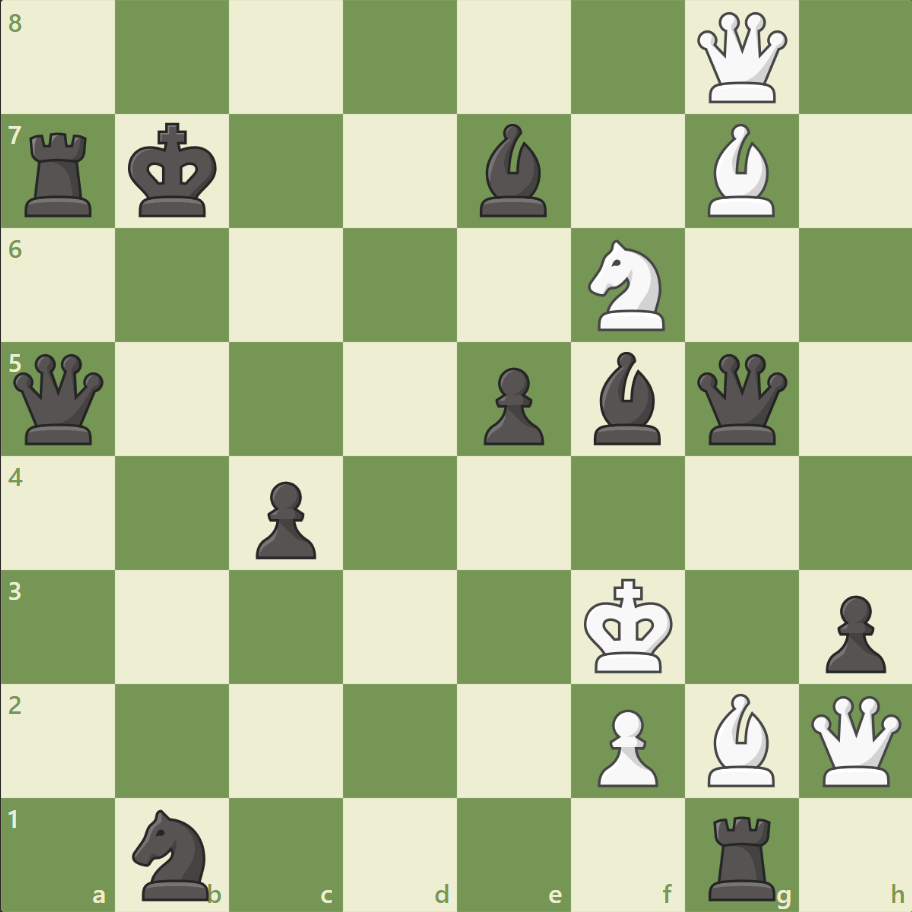B: (698, 687, 782, 790), (698, 120, 782, 222)
K: (579, 571, 679, 679)
N: (579, 234, 676, 337)
P: (588, 700, 662, 791)
Q: (691, 9, 790, 108), (805, 690, 904, 789)
b: (471, 120, 555, 222), (585, 347, 669, 449)
k: (124, 117, 224, 225)
n: (124, 802, 222, 904)
p: (474, 359, 549, 450), (247, 473, 322, 564), (815, 586, 889, 677)
q: (10, 349, 109, 449), (691, 349, 790, 449)
r: (700, 806, 783, 904), (19, 125, 102, 222)
